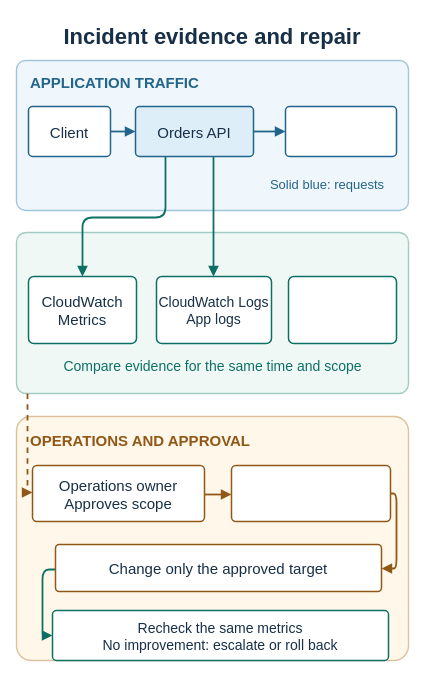
Image size: 425x677. Some labels were removed from this diagram. Each missing label, with the centre of its shape:
"CloudTrail AWS API activity" goes at (x=342, y=309).
"Dependency" goes at (x=340, y=131).
"Systems Manager Automation runbook" goes at (x=310, y=493).
